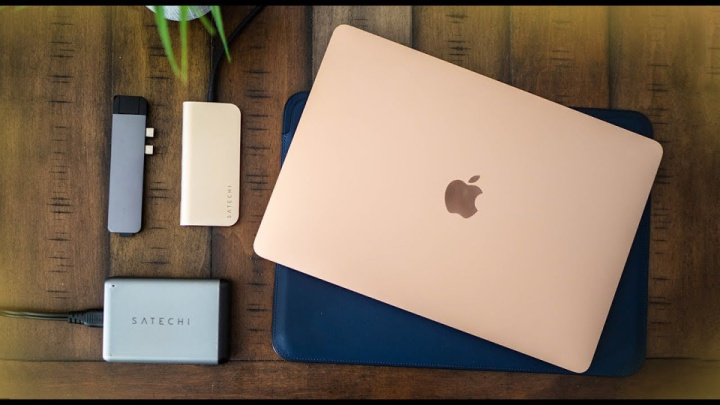apple: (434, 166, 489, 222)
